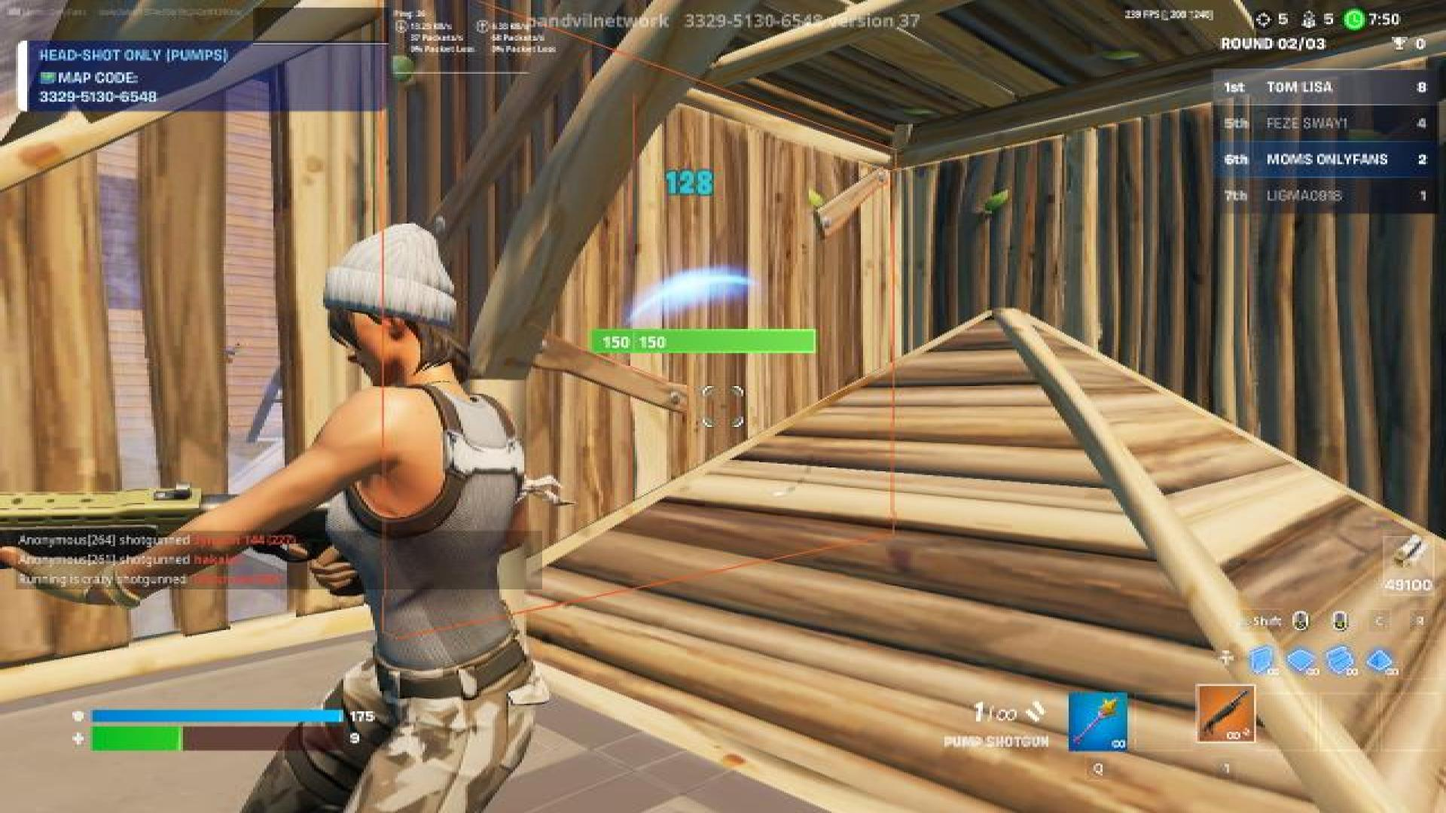player: (221, 246, 608, 812)
